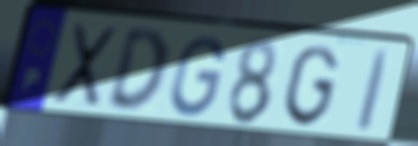8: (223, 36, 283, 127)
D: (103, 27, 169, 117)
G: (280, 43, 342, 130), (168, 34, 227, 120)
I: (353, 48, 395, 137)
X: (48, 21, 120, 113)
